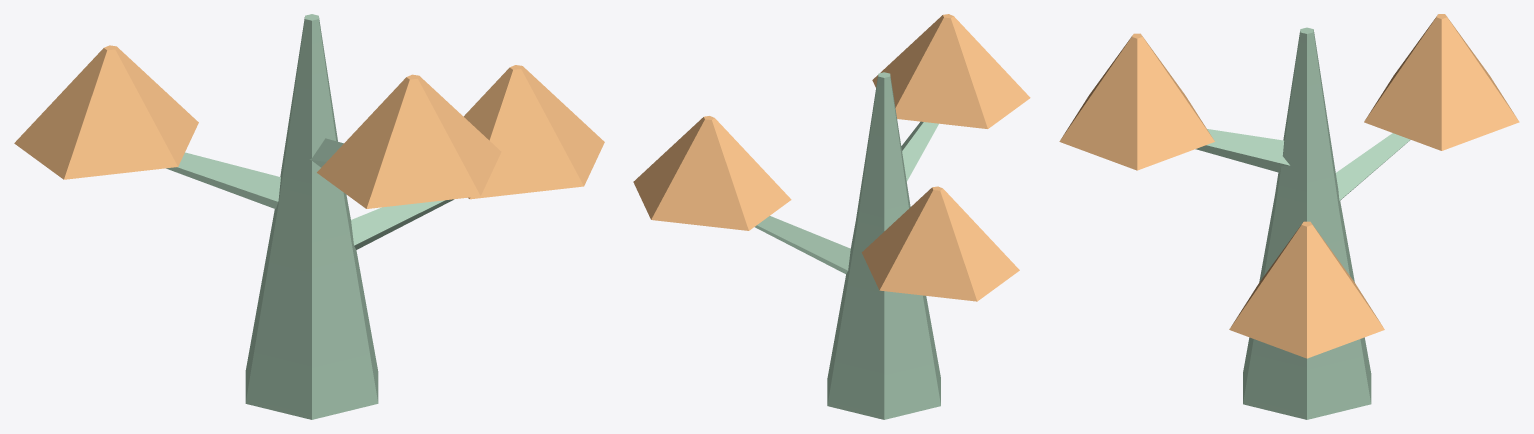
The model's file is prop_plant_seira_v4_ShadowProxy.glb.
The picture shows the model from 3 angles, left to right: view 1: azimuth 30°, elevation 25°; view 2: azimuth 150°, elevation 25°; view 3: azimuth 270°, elevation 25°; orthographic projection. The views are drawn at different scales.
Parts seen in each view (by area): view 1: prop_plant_seira_v4_ShadowProxy / Natural silhouette; view 2: prop_plant_seira_v4_ShadowProxy / Natural silhouette; view 3: prop_plant_seira_v4_ShadowProxy / Natural silhouette.
Boxes of the visible parts, box(x1,y1,x2,y2) form: prop_plant_seira_v4_ShadowProxy / Natural silhouette: box(14, 14, 604, 419); prop_plant_seira_v4_ShadowProxy / Natural silhouette: box(633, 14, 1030, 419); prop_plant_seira_v4_ShadowProxy / Natural silhouette: box(1059, 14, 1519, 419).
Bounding box in the file's own units: 1.8 × 1.28 × 1.49.
